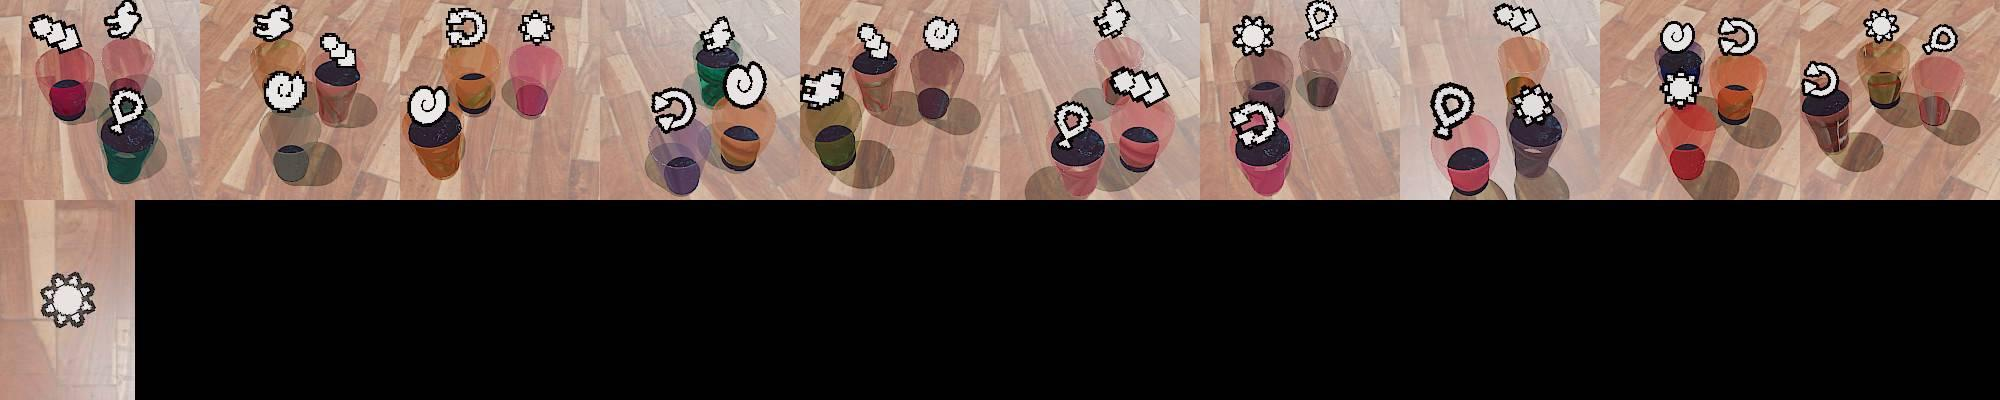icon: (38, 270, 96, 329), (1430, 82, 1476, 141), (1232, 97, 1283, 150), (1106, 65, 1168, 108), (651, 85, 698, 134), (723, 59, 768, 110), (261, 69, 309, 115), (1051, 101, 1096, 149), (28, 14, 82, 52), (106, 84, 148, 132), (444, 5, 487, 50), (1511, 84, 1556, 127), (1233, 14, 1276, 59), (800, 68, 846, 108), (406, 84, 452, 125), (1716, 17, 1758, 59), (1492, 3, 1541, 38), (1659, 70, 1703, 110), (103, 0, 144, 41), (251, 4, 293, 42), (855, 22, 894, 61), (318, 31, 357, 69), (922, 14, 960, 52), (1801, 60, 1839, 98), (1302, 0, 1338, 41), (1093, 0, 1129, 39), (1658, 18, 1698, 54), (518, 9, 555, 46), (1862, 9, 1901, 43), (1921, 23, 1959, 56), (702, 17, 735, 52)
